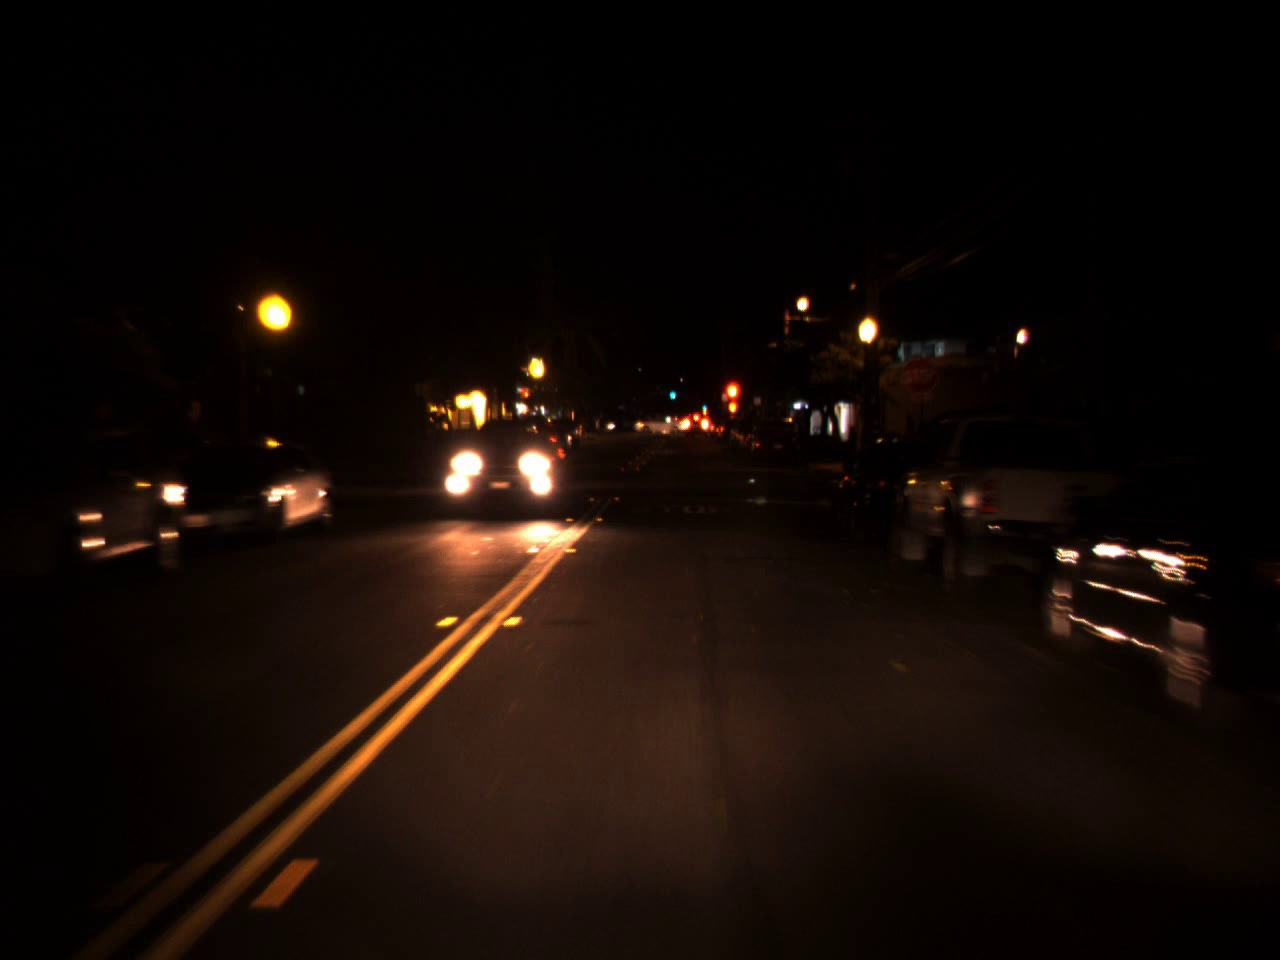go: (667, 383, 676, 398)
stop: (724, 383, 737, 415), (520, 386, 532, 407)
